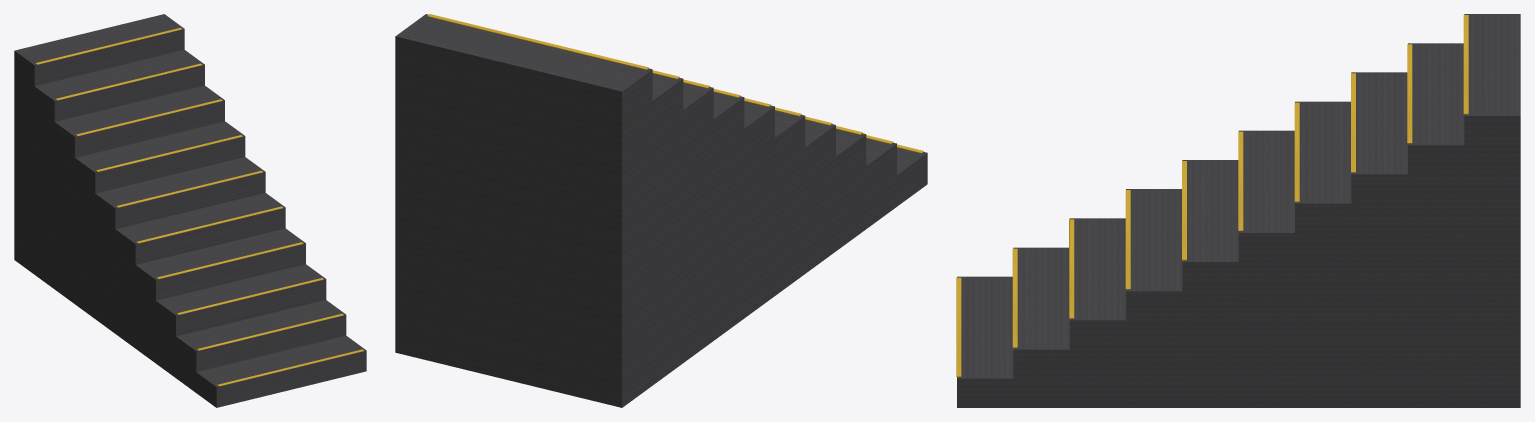
File: stairs.glb
3 views of the same model, side by side, from view 1: azimuth 30°, elevation 25°; view 2: azimuth 150°, elevation 25°; view 3: azimuth 270°, elevation 25° (orthographic). The views are drawn at different scales.
Parts seen in each view (by area): view 1: stair_solid, tread_nosing_01, tread_nosing_08, tread_nosing_07, tread_nosing_00, tread_nosing_03, tread_nosing_06, tread_nosing_02, tread_nosing_05, tread_nosing_09, tread_nosing_04; view 2: stair_solid, tread_nosing_09; view 3: stair_solid, tread_nosing_02, tread_nosing_08, tread_nosing_00, tread_nosing_01, tread_nosing_03, tread_nosing_05, tread_nosing_06, tread_nosing_09.
Boxes of the visible parts, box(x1,y1,x2,y2) form: stair_solid: box(14, 14, 366, 407); tread_nosing_01: box(197, 313, 343, 350); tread_nosing_08: box(56, 63, 202, 100); tread_nosing_07: box(76, 99, 222, 136); tread_nosing_00: box(217, 349, 363, 386); tread_nosing_03: box(157, 242, 303, 279); tread_nosing_06: box(96, 135, 242, 171); tread_nosing_02: box(177, 278, 323, 314); tread_nosing_05: box(116, 170, 262, 207); tread_nosing_09: box(35, 27, 182, 64); tread_nosing_04: box(137, 206, 282, 243); stair_solid: box(395, 14, 927, 407); tread_nosing_09: box(427, 14, 648, 69); stair_solid: box(957, 14, 1520, 407); tread_nosing_02: box(1069, 219, 1074, 318); tread_nosing_08: box(1407, 44, 1412, 143); tread_nosing_00: box(956, 277, 961, 376); tread_nosing_01: box(1012, 248, 1017, 347); tread_nosing_03: box(1125, 190, 1130, 289); tread_nosing_05: box(1238, 131, 1243, 230); tread_nosing_06: box(1294, 102, 1299, 201); tread_nosing_09: box(1463, 15, 1468, 114).
Bounding box in the file's own units: 1.2 × 1.6 × 2.8.
2 materials, 2 textured.
